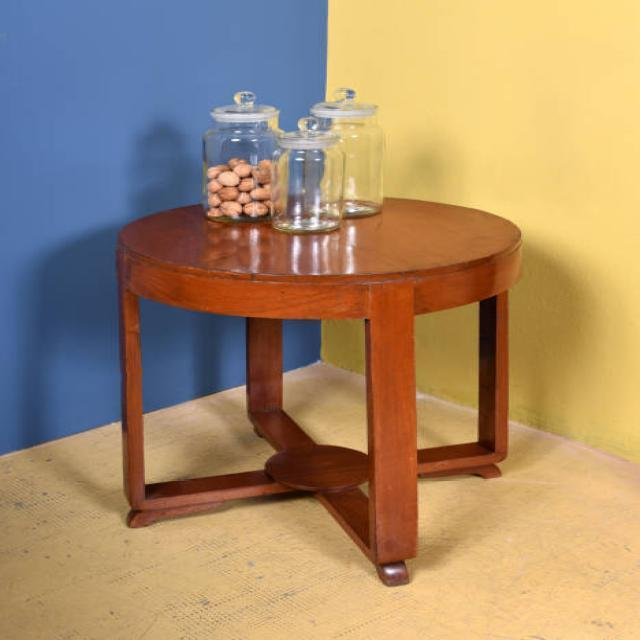table: (114, 194, 522, 586)
